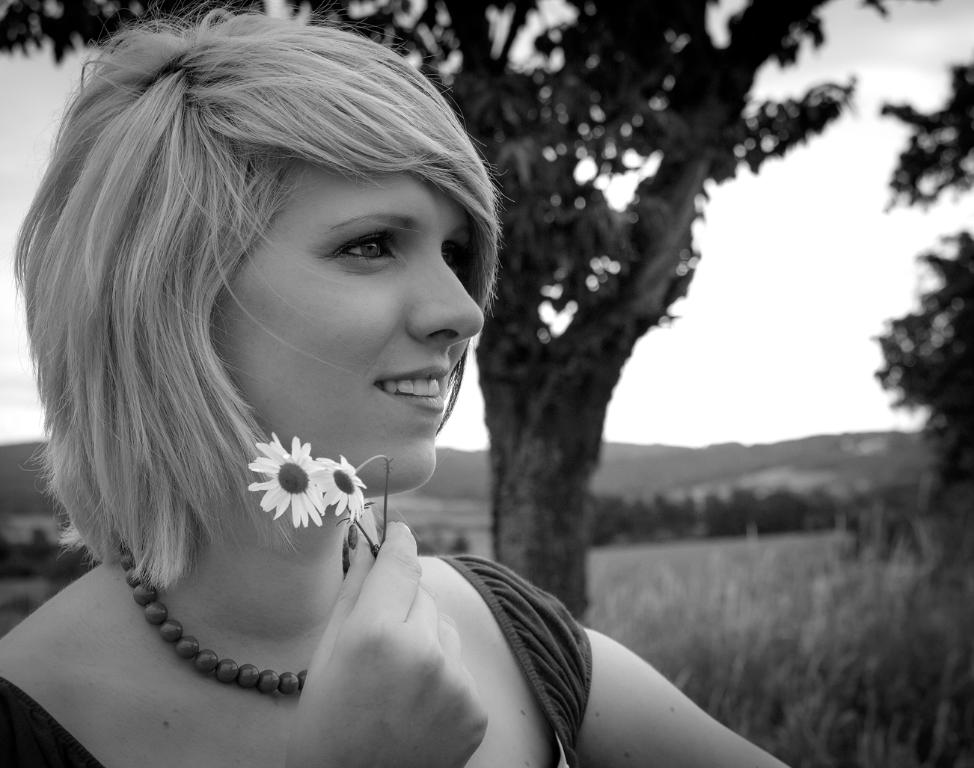Human_hand: (305, 500, 475, 742)
